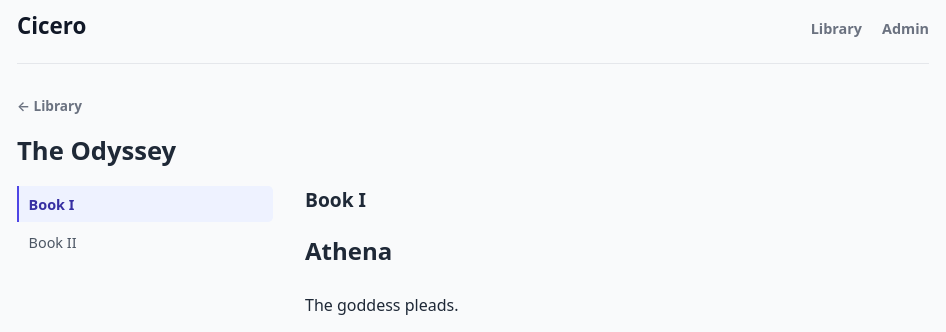
Test: ReaderPage › navigates chapters by the TOC and reads the chapter summary
Expected: the heading "The Odyssey" is shown, [17, 133, 176, 168]
Expected: the heading "Athena" is shown, [305, 234, 392, 267]
// Selecting another chapter from the TOC shows its summary.
Click the button "Book II": (145, 243) [17, 225, 273, 261]
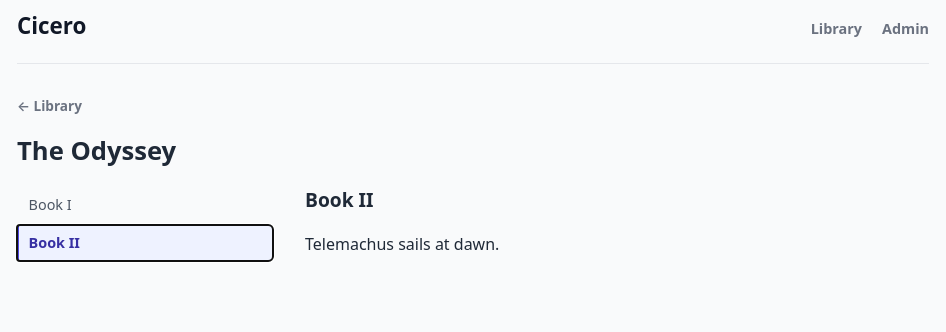
Result: the text "Telemachus sails at dawn." is shown at [305, 233, 499, 255]
